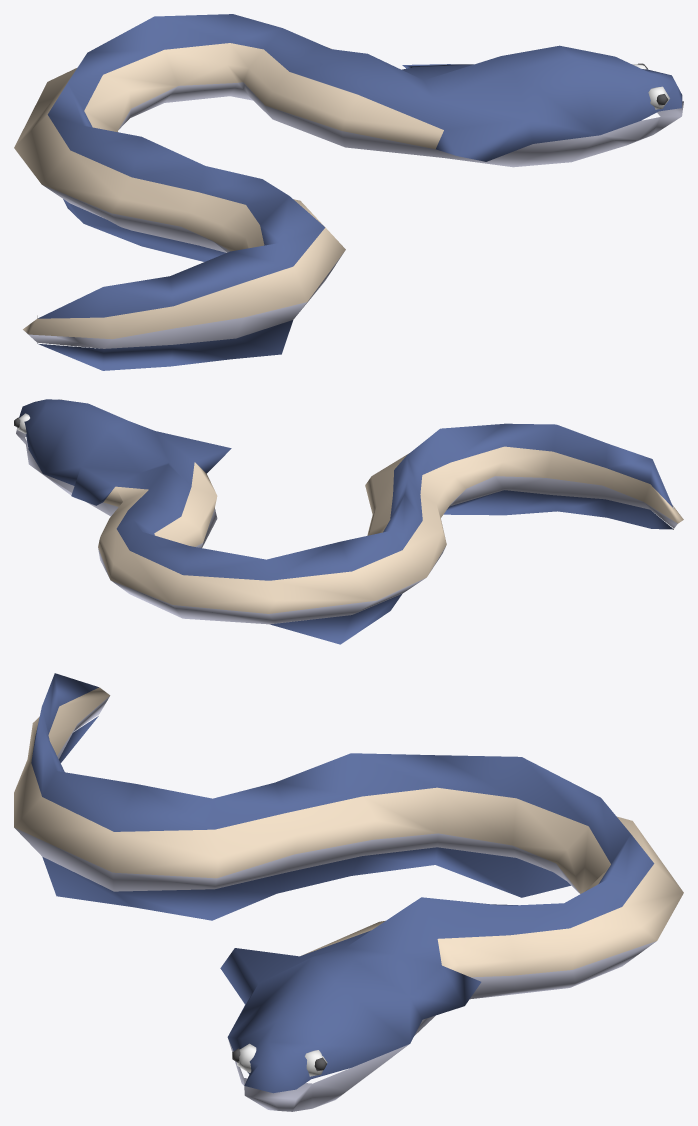
File: animals-eel-084.glb
The picture shows the model from 3 angles, top to bottom: view 1: azimuth 30°, elevation 25°; view 2: azimuth 150°, elevation 25°; view 3: azimuth 270°, elevation 25°; orthographic projection. The views are drawn at different scales.
Parts seen in each view (by area): view 1: Symmetry.1; view 2: Symmetry.1; view 3: Symmetry.1.
Boxes of the visible parts, left/top/right/bottom form: Symmetry.1: left=14, top=14, right=683, bottom=370; Symmetry.1: left=16, top=399, right=683, bottom=644; Symmetry.1: left=14, top=673, right=683, bottom=1111.
Bounding box in the file's own units: 667 × 111 × 471.
